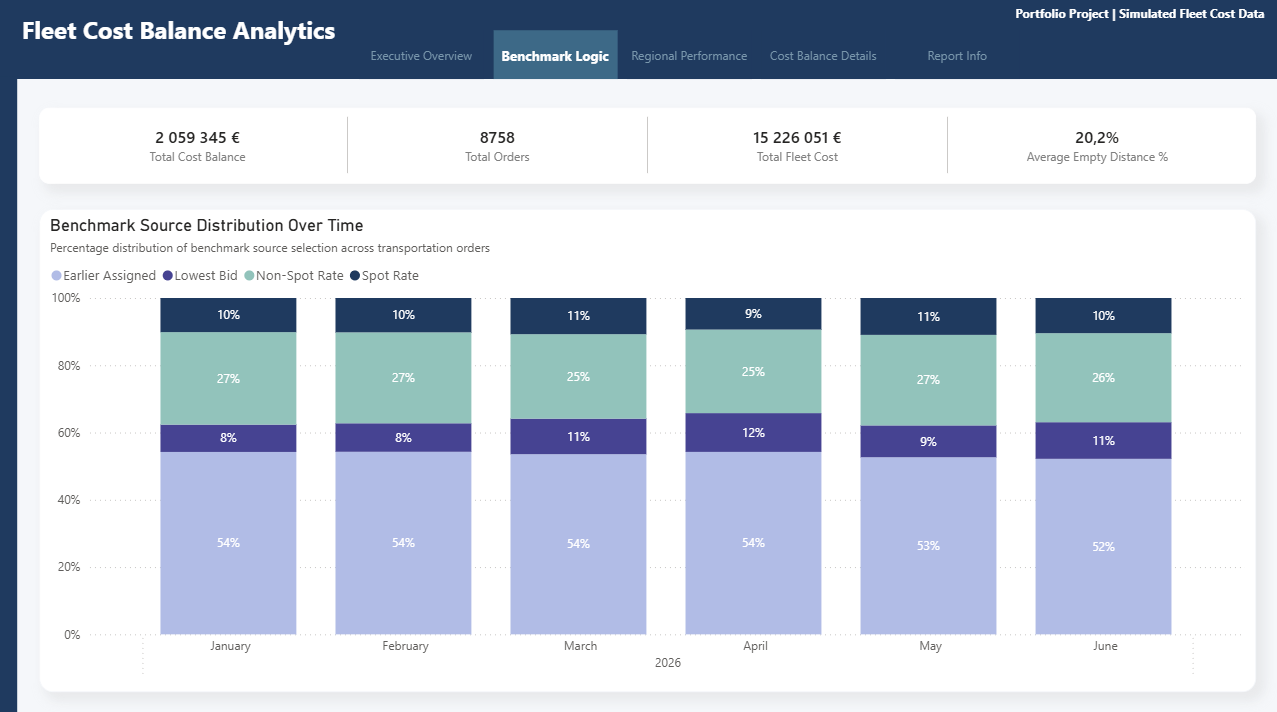

This screenshot's page, from the dashboard's own definition file:
{"tool":"powerbi","page":{"name":"Benchmark Logic","canvas":[1280,720],"ordinal":1},"visuals":[{"type":"hundredPercentStackedColumnChart","title":"Benchmark Source Distribution Over Time","fields":{"Series":["dim_cost_balance_source.cost_balance_source"],"Y":["_measures.Total Orders"],"Category":["dim_calendar.Year","dim_calendar.Month Name"]},"box":[87.1,210,1157.1,482.9],"z":0},{"type":"shape","box":[0,0,1280.3,80],"z":1000},{"type":"textbox","box":[19.2,10,332.1,67.2],"z":2000},{"type":"textbox","box":[1012.4,0,267.6,39.8],"z":3000},{"type":"pageNavigator","box":[360.9,31,661.4,49.4],"z":4000},{"type":"cardVisual","fields":{"Data":["_measures.Total Cost Balance","_measures.Total Orders","_measures.Total DF Cost","_measures.Average Empty Distance %"]},"box":[87.1,100,1157.1,75.7],"z":5000}]}

Visuals, with their boxes in screenshot pixels (x1, y1, x2, y2), scaled from the page's 1280x720 canvas onto the 1277x712 screenshot:
"Benchmark Source Distribution Over Time" hundredPercentStackedColumnChart: <region>87, 208, 1241, 685</region>
shape: <region>0, 0, 1276, 79</region>
textbox: <region>19, 10, 350, 76</region>
textbox: <region>1010, 0, 1276, 39</region>
pageNavigator: <region>360, 31, 1020, 80</region>
cardVisual - _measures.Total Cost Balance x _measures.Total Orders: <region>87, 99, 1241, 174</region>
